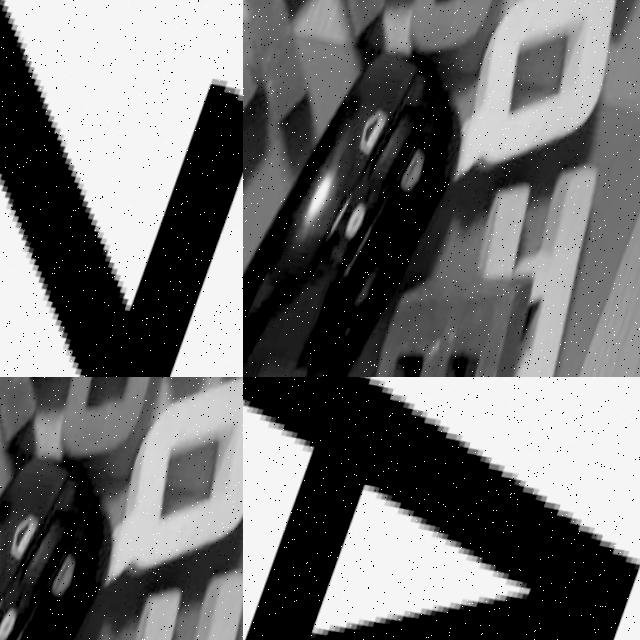A: (243, 377, 640, 640)
B: (336, 245, 570, 377)
P: (0, 377, 192, 494), (326, 0, 541, 89)
Q: (434, 0, 640, 224), (85, 377, 243, 629)
U: (243, 0, 444, 154), (0, 377, 96, 559)
Z: (0, 0, 243, 377)
